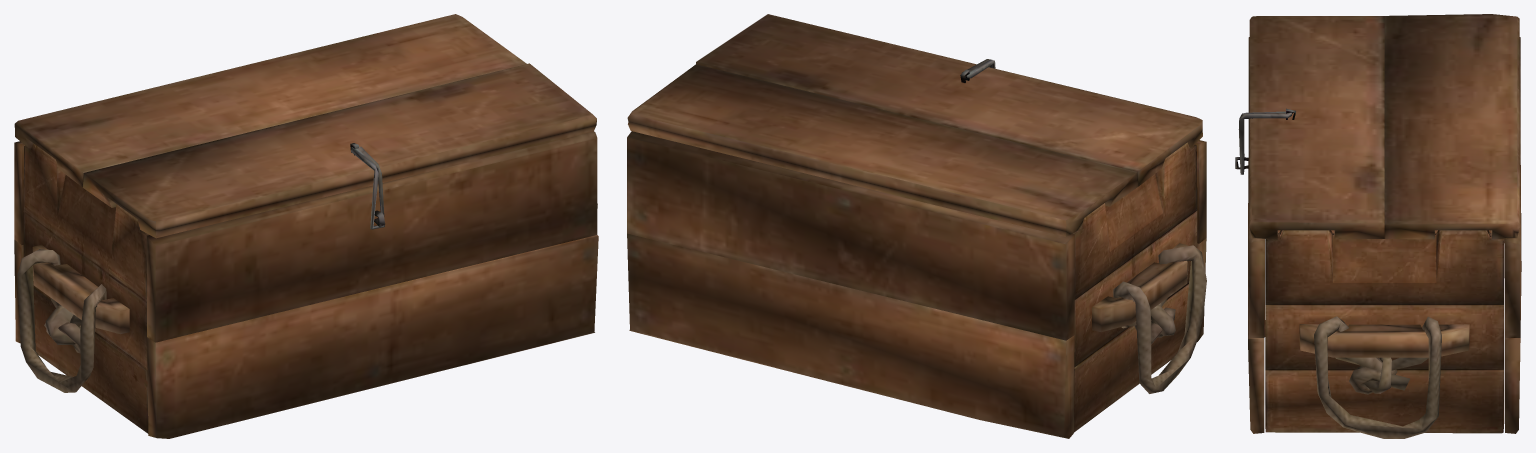
Rendered from crate.glb.
3 renders of one model, left to right at view 1: azimuth 30°, elevation 25°; view 2: azimuth 150°, elevation 25°; view 3: azimuth 270°, elevation 25°, orthographic. The views are drawn at different scales.
Parts seen in each view (by area): view 1: wooden_crate_01_lid; view 2: wooden_crate_01_lid; view 3: wooden_crate_01_lid.
Boxes of the visible parts, box(x1,y1,x2,y2) form: wooden_crate_01_lid: box(14, 14, 598, 438); wooden_crate_01_lid: box(627, 14, 1206, 438); wooden_crate_01_lid: box(1235, 14, 1521, 438).
Size of the model in its own units: 0.8245 by 0.3469 by 0.4056.
1 material, 1 textured.
